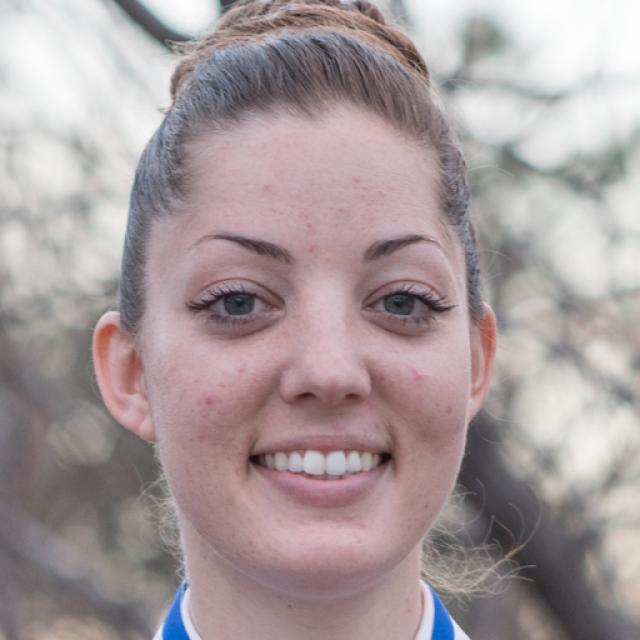Acne: (403, 364, 429, 386), (331, 198, 352, 221), (340, 171, 368, 188), (229, 361, 253, 380), (259, 182, 277, 198), (193, 409, 212, 420)
